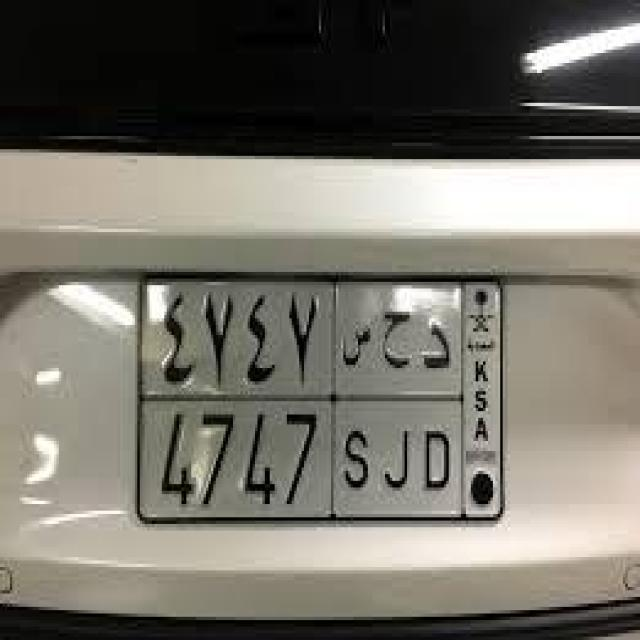license_plate: (100, 239, 518, 554)
